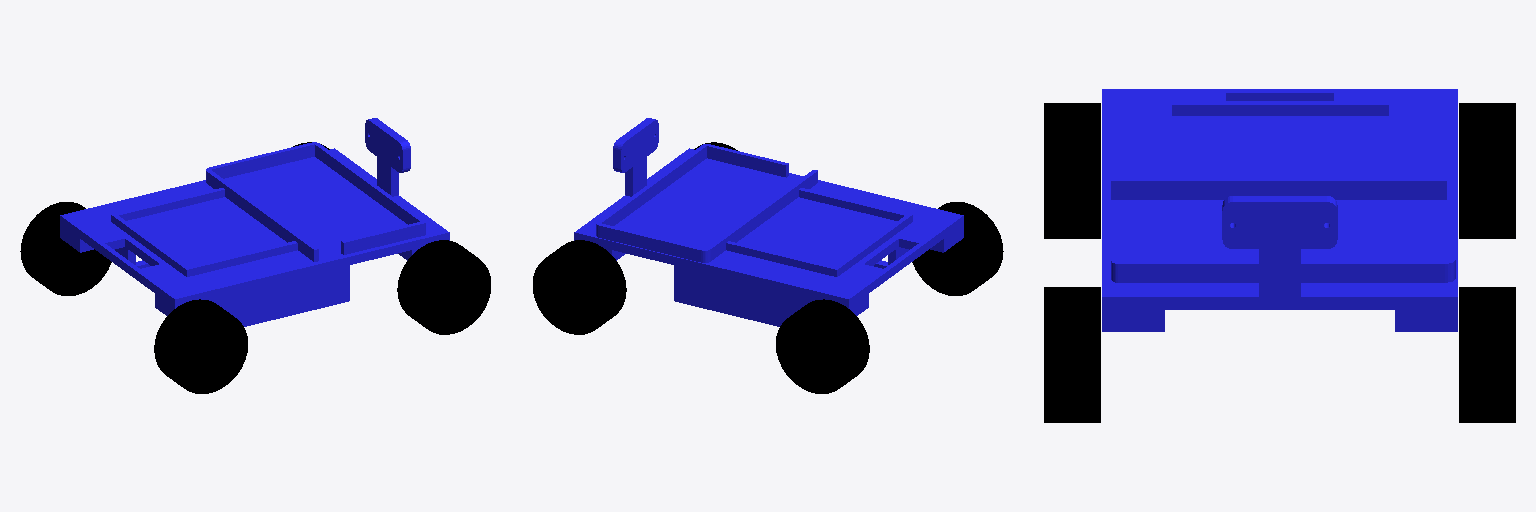
URDF robot description (ana_robot):
<?xml version="1.0" ?>
<!-- =================================================================================== -->
<!-- |    This document was autogenerated by xacro from robot_core.xacro               | -->
<!-- |    EDITING THIS FILE BY HAND IS NOT RECOMMENDED                                 | -->
<!-- =================================================================================== -->
<robot name="ana_robot">
  <!-- Specify some standard inertial calculations https://en.wikipedia.org/wiki/List_of_moments_of_inertia -->
  <!-- These make use of xacro's mathematical functionality -->
  <material name="white">
    <color rgba="1 1 1 1"/>
  </material>
  <material name="orange">
    <color rgba="1 0.3 0.1 1"/>
  </material>
  <material name="blue">
    <color rgba="0.2 0.2 1 1"/>
  </material>
  <material name="black">
    <color rgba="0 0 0 1"/>
  </material>
  <!-- CHASSIS LINK -->
  <link name="base_link">

    </link>
  <joint name="chassis_joint" type="fixed">
    <parent link="base_link"/>
    <child link="chassis"/>
    <origin xyz="-0.001 0 0"/>
  </joint>
  <link name="chassis">
    <visual>
      <origin xyz="0.1175 0.0835 0.0295"/>
      <!-- chassis location ajusted to be in the middle of the chassis -->
      <geometry>
        <mesh filename="package://ana/meshes/ana_chassis.stl" scale="0.001 0.001 0.001"/>
      </geometry>
      <material name="blue"/>
    </visual>
    <collision>
      <origin xyz="0.1175 0.0835 0.0295"/>
      <!-- chassis location ajusted to be in the middle of the chassis -->
      <geometry>
        <mesh filename="package://ana/meshes/ana_chassis.stl" scale="0.001 0.001 0.001"/>
      </geometry>
    </collision>
    <inertial>
      <origin rpy="0 0 0" xyz="0.1175 0.0835 0.0295"/>
      <mass value="0.5"/>
      <inertia ixx="0.0012041666666666668" ixy="0.0" ixz="0.0" iyy="0.0023010416666666665" iyz="0.0" izz="0.0035052083333333333"/>
    </inertial>
  </link>
  <gazebo reference="chassis">
    <material>Gazebo/Blue</material>
  </gazebo>
  <!-- FRONT LEFT WHEEL LINK -->
  <joint name="front_left_wheel_joint" type="continuous">
    <parent link="base_link"/>
    <child link="front_left_wheel"/>
    <origin rpy="-1.5708 0 0" xyz="0.104 0.0975 0"/>
    <axis xyz="0 0 1"/>
  </joint>
  <link name="front_left_wheel">
    <visual>
      <geometry>
        <cylinder length="0.027" radius="0.0325"/>
      </geometry>
      <material name="black"/>
    </visual>
    <collision>
      <geometry>
        <sphere radius="0.0325"/>
      </geometry>
    </collision>
    <inertial>
      <origin rpy="0 0 0" xyz="0 0 0"/>
      <mass value="0.1"/>
      <inertia ixx="3.248125e-05" ixy="0.0" ixz="0.0" iyy="3.248125e-05" iyz="0.0" izz="5.281250000000001e-05"/>
    </inertial>
  </link>
  <gazebo reference="front_left_wheel">
    <material>Gazebo/Black</material>
  </gazebo>
  <!-- FRONT RIGHT WHEEL LINK -->
  <joint name="front_right_wheel_joint" type="continuous">
    <parent link="base_link"/>
    <child link="front_right_wheel"/>
    <origin rpy="1.5708 0 0" xyz="0.104 -0.1005 0"/>
    <axis xyz="0 0 -1"/>
  </joint>
  <link name="front_right_wheel">
    <visual>
      <geometry>
        <cylinder length="0.027" radius="0.0325"/>
      </geometry>
      <material name="black"/>
    </visual>
    <collision>
      <geometry>
        <sphere radius="0.0325"/>
      </geometry>
    </collision>
    <inertial>
      <origin rpy="0 0 0" xyz="0 0 0"/>
      <mass value="0.1"/>
      <inertia ixx="3.248125e-05" ixy="0.0" ixz="0.0" iyy="3.248125e-05" iyz="0.0" izz="5.281250000000001e-05"/>
    </inertial>
  </link>
  <gazebo reference="front_right_wheel">
    <material>Gazebo/Black</material>
  </gazebo>
  <!-- BACK LEFT WHEEL LINK -->
  <joint name="back_left_wheel_joint" type="continuous">
    <parent link="base_link"/>
    <child link="back_left_wheel"/>
    <origin rpy="-1.5708 0 0" xyz="-0.104 0.0975 0"/>
    <axis xyz="0 0 1"/>
  </joint>
  <link name="back_left_wheel">
    <visual>
      <geometry>
        <cylinder length="0.027" radius="0.0325"/>
      </geometry>
      <material name="black"/>
    </visual>
    <collision>
      <geometry>
        <sphere radius="0.0325"/>
      </geometry>
    </collision>
    <inertial>
      <origin rpy="0 0 0" xyz="0 0 0"/>
      <mass value="0.1"/>
      <inertia ixx="3.248125e-05" ixy="0.0" ixz="0.0" iyy="3.248125e-05" iyz="0.0" izz="5.281250000000001e-05"/>
    </inertial>
  </link>
  <gazebo reference="back_left_wheel">
    <material>Gazebo/Black</material>
    <!-- <mu1 value="0.001"/> -->
    <!--friction does not want to work -->
    <!-- <mu2 value="0.001"/> -->
  </gazebo>
  <!-- BACK RIGHT WHEEL LINK -->
  <joint name="back_right_wheel_joint" type="continuous">
    <parent link="base_link"/>
    <child link="back_right_wheel"/>
    <origin rpy="1.5708 0 0" xyz="-0.104 -0.1005 0"/>
    <axis xyz="0 0 -1"/>
  </joint>
  <link name="back_right_wheel">
    <visual>
      <geometry>
        <cylinder length="0.027" radius="0.0325"/>
      </geometry>
      <material name="black"/>
    </visual>
    <collision>
      <geometry>
        <sphere radius="0.0325"/>
      </geometry>
    </collision>
    <inertial>
      <origin rpy="0 0 0" xyz="0 0 0"/>
      <mass value="0.1"/>
      <inertia ixx="3.248125e-05" ixy="0.0" ixz="0.0" iyy="3.248125e-05" iyz="0.0" izz="5.281250000000001e-05"/>
    </inertial>
  </link>
  <gazebo reference="back_right_wheel">
    <material>Gazebo/Black</material>
    <!-- <mu1 value="0.001"/> -->
    <!--friction does not want to work -->
    <!-- <mu2 value="0.001"/> -->
  </gazebo>
</robot>

--- Render facts (derived) ---
Views: 3 orthographic renders of the robot side by side, from view 1: azimuth 30°, elevation 25°; view 2: azimuth 150°, elevation 25°; view 3: azimuth 270°, elevation 25°.
Model ana_robot with 6 links and 5 joints (4 continuous, 1 fixed), rooted at base_link, posed all joints at 0.
Links seen in each view (by area): view 1: chassis, front_right_wheel, back_right_wheel, back_left_wheel; view 2: chassis, front_left_wheel, back_left_wheel, back_right_wheel; view 3: chassis, front_left_wheel, front_right_wheel, back_left_wheel, back_right_wheel.
Link boxes in pixels (left/top/right/bottom): chassis: left=60, top=118, right=449, bottom=326; front_right_wheel: left=397, top=240, right=490, bottom=334; back_right_wheel: left=154, top=299, right=247, bottom=393; back_left_wheel: left=20, top=202, right=111, bottom=295; chassis: left=574, top=118, right=963, bottom=326; front_left_wheel: left=533, top=240, right=626, bottom=334; back_left_wheel: left=776, top=299, right=869, bottom=393; back_right_wheel: left=912, top=202, right=1003, bottom=295; chassis: left=1102, top=89, right=1457, bottom=331; front_left_wheel: left=1459, top=287, right=1515, bottom=422; front_right_wheel: left=1044, top=287, right=1100, bottom=422; back_left_wheel: left=1459, top=103, right=1515, bottom=238; back_right_wheel: left=1044, top=103, right=1100, bottom=238.
Bounding box of the posed robot: 0.273 × 0.225 × 0.119 m (x, y, z).
Meshes: 1 distinct files referenced, 1 mesh visuals loaded (1 binary STL).
